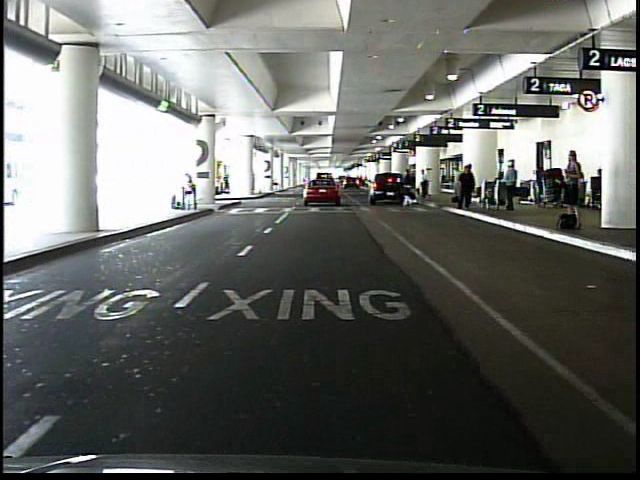person: (561, 149, 586, 216), (567, 161, 583, 213), (459, 164, 476, 211), (182, 173, 200, 215), (503, 163, 517, 213), (404, 167, 415, 209), (464, 164, 475, 203), (420, 169, 431, 200)
